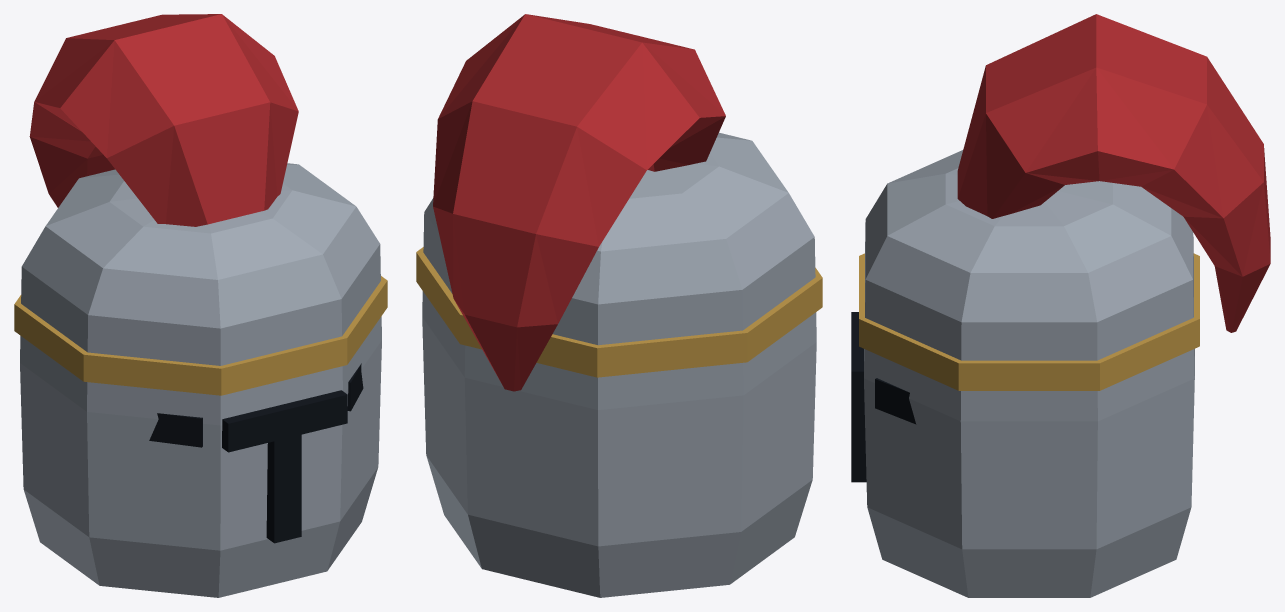
The model's file is Hat_Helmet.fbx.
The picture shows the model from 3 angles, left to right: view 1: azimuth 30°, elevation 25°; view 2: azimuth 150°, elevation 25°; view 3: azimuth 270°, elevation 25°; orthographic projection. The views are drawn at different scales.
Parts seen in each view (by area): view 1: Helm, Plume, HelmTrim, HelmVisor; view 2: Helm, Plume, HelmTrim; view 3: Helm, Plume, HelmTrim, HelmVisor.
Part boxes in pixels (bbox=[...]): Helm: bbox=[20, 163, 381, 597]; Plume: bbox=[29, 14, 298, 226]; HelmTrim: bbox=[14, 276, 387, 395]; HelmVisor: bbox=[149, 363, 363, 543]; Helm: bbox=[422, 132, 816, 597]; Plume: bbox=[433, 14, 725, 391]; HelmTrim: bbox=[416, 247, 822, 377]; Helm: bbox=[864, 150, 1194, 597]; Plume: bbox=[957, 14, 1270, 332]; HelmTrim: bbox=[859, 253, 1199, 390]; HelmVisor: bbox=[851, 312, 916, 482].
Size of the model in its own units: 1.88 by 2.85 by 2.2.
